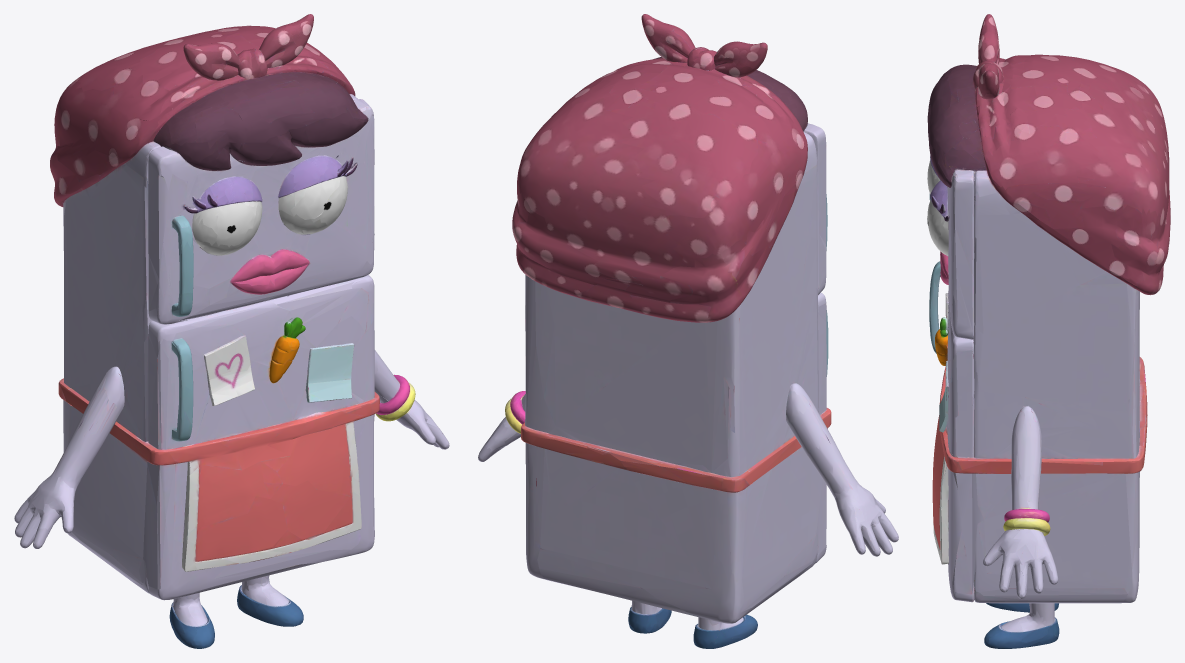
File: mrsrefrigerator.glb
The picture shows the model from 3 angles, left to right: view 1: azimuth 30°, elevation 25°; view 2: azimuth 150°, elevation 25°; view 3: azimuth 270°, elevation 25°; orthographic projection. The views are drawn at different scales.
Bounding box in the file's own units: 1.39 × 1.9 × 0.7234.
1 material, 1 textured.
